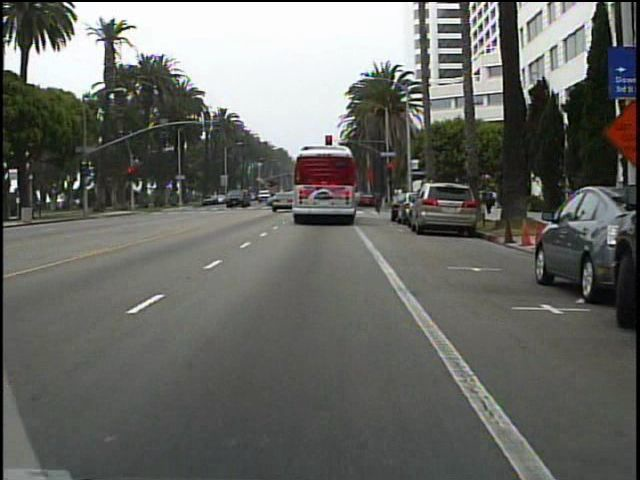person: (482, 183, 495, 217)
